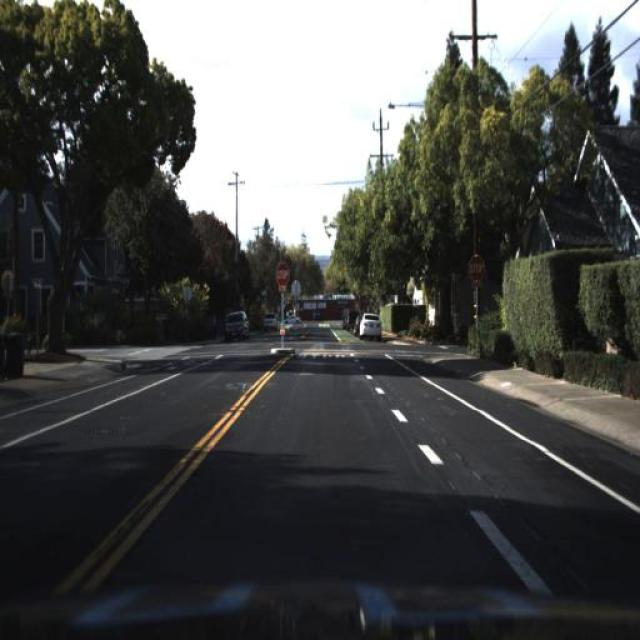car: (221, 311, 248, 345), (356, 308, 382, 343)
